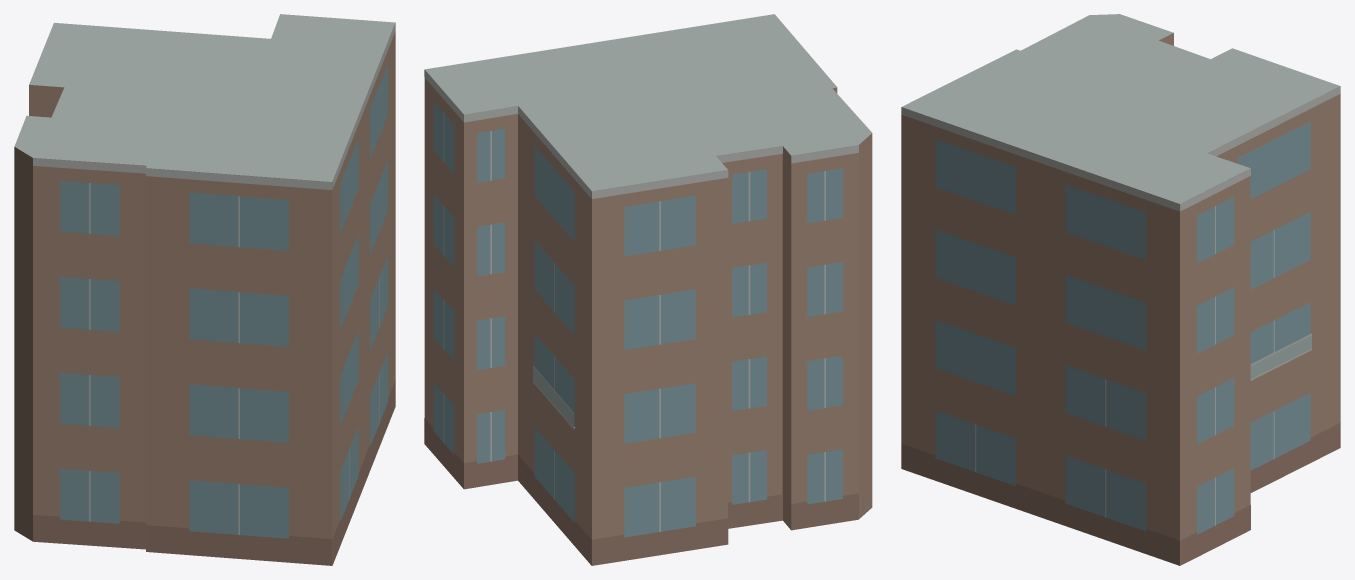
File: survey-upis-32906986.glb
The picture shows the model from 3 angles, left to right: view 1: azimuth 30°, elevation 25°; view 2: azimuth 150°, elevation 25°; view 3: azimuth 270°, elevation 25°; orthographic projection. The views are drawn at different scales.
Visible parts, largest first — view 1: survey-upis-32906986.tmp; view 2: survey-upis-32906986.tmp; view 3: survey-upis-32906986.tmp.
Part boxes in pixels (bbox=[...]): survey-upis-32906986.tmp: bbox=[14, 14, 395, 565]; survey-upis-32906986.tmp: bbox=[424, 14, 872, 565]; survey-upis-32906986.tmp: bbox=[901, 14, 1340, 565].
Bounding box in the file's own units: 13.07 × 11.6 × 12.77.
